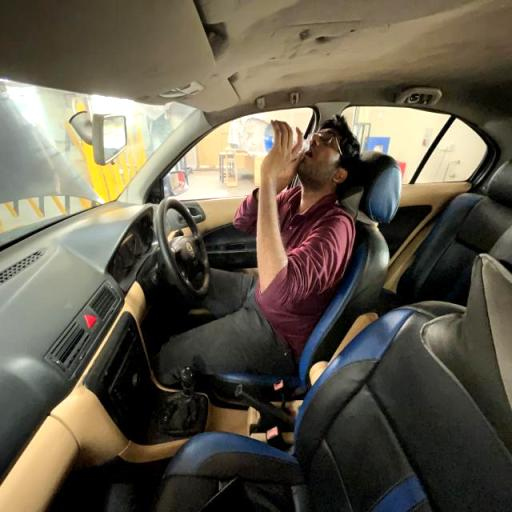Drinking: (191, 114, 363, 337)
